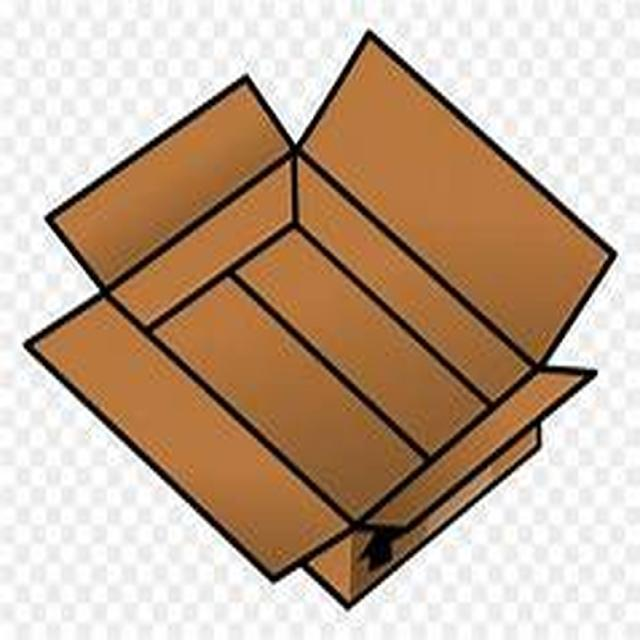box: (43, 34, 626, 575)
